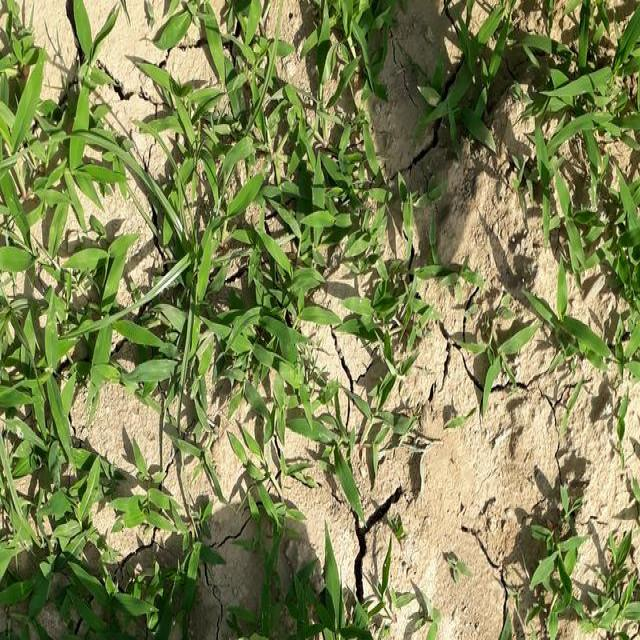weed: (140, 0, 357, 413), (453, 7, 640, 402), (0, 13, 132, 393), (0, 428, 226, 634)
